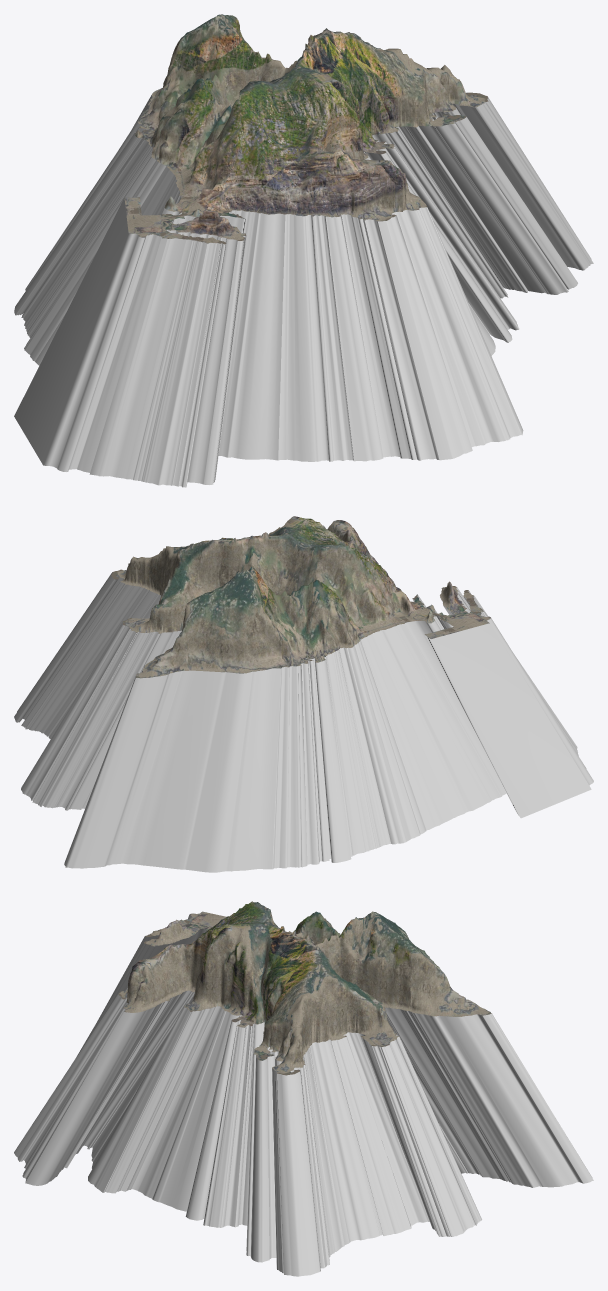
Rendered from dongdo-mid.glb.
The picture shows the model from 3 angles, top to bottom: view 1: azimuth 30°, elevation 25°; view 2: azimuth 150°, elevation 25°; view 3: azimuth 270°, elevation 25°; orthographic projection. The views are drawn at different scales.
Parts seen in each view (by area): view 1: dongdo-inferred-underwater-skirt-not-surveyed, dongdo-NGII-measured-surface; view 2: dongdo-inferred-underwater-skirt-not-surveyed, dongdo-NGII-measured-surface; view 3: dongdo-inferred-underwater-skirt-not-surveyed, dongdo-NGII-measured-surface.
Boxes of the visible parts, left/top/right/bottom form: dongdo-inferred-underwater-skirt-not-surveyed: left=14, top=95, right=593, bottom=487; dongdo-NGII-measured-surface: left=124, top=14, right=488, bottom=244; dongdo-inferred-underwater-skirt-not-surveyed: left=14, top=572, right=593, bottom=872; dongdo-NGII-measured-surface: left=111, top=516, right=490, bottom=678; dongdo-inferred-underwater-skirt-not-surveyed: left=14, top=915, right=593, bottom=1276; dongdo-NGII-measured-surface: left=118, top=901, right=491, bottom=1075.
Size of the model in its own units: 680 by 299 by 668.
2 materials, 1 textured.
